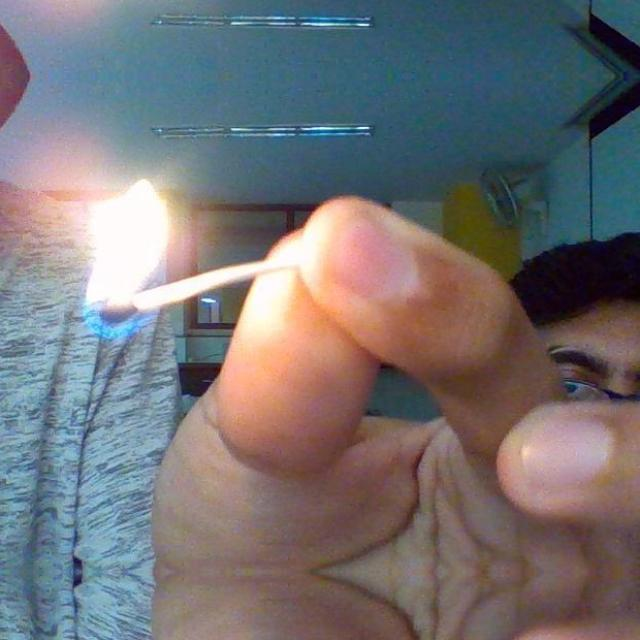smoke: (75, 174, 176, 342)
